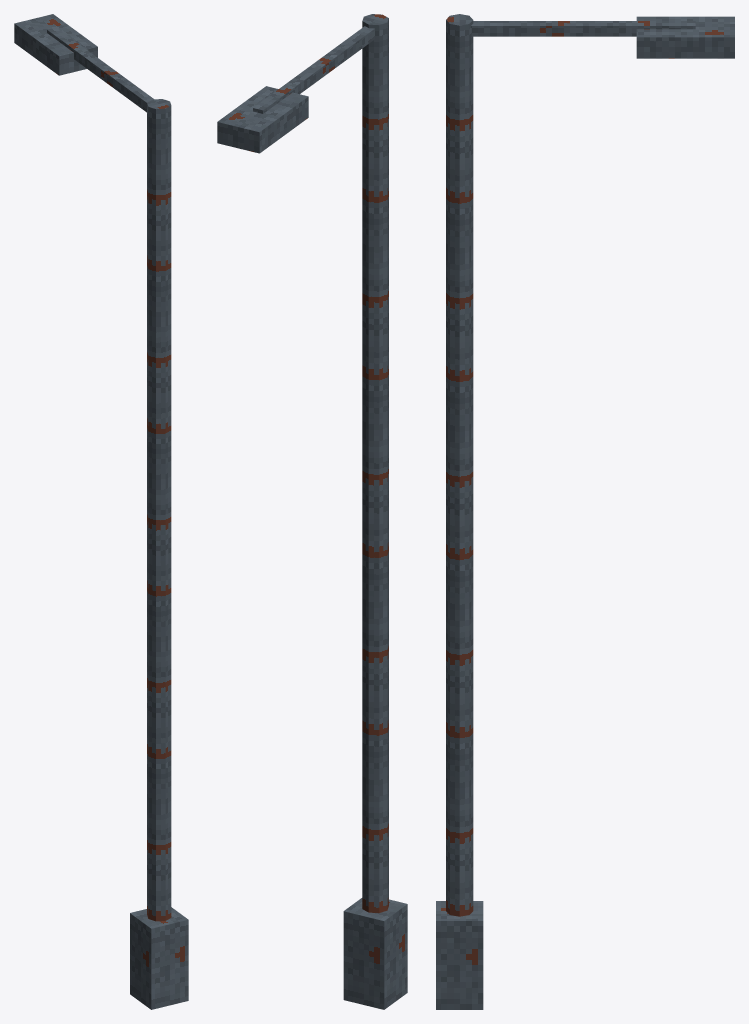
Rendered from street_lamp.gltf.
The picture shows the model from 3 angles, left to right: view 1: azimuth 30°, elevation 25°; view 2: azimuth 150°, elevation 25°; view 3: azimuth 270°, elevation 25°; orthographic projection. The views are drawn at different scales.
Visible parts, largest first — view 1: street_lamp; view 2: street_lamp; view 3: street_lamp.
Boxes of the visible parts, <box> form: street_lamp: <box>14,14,188,1009</box>; street_lamp: <box>217,14,407,1009</box>; street_lamp: <box>436,14,734,1009</box>.
Size of the model in its own units: 0.25 by 5.5 by 1.52.
1 material, 1 textured.
